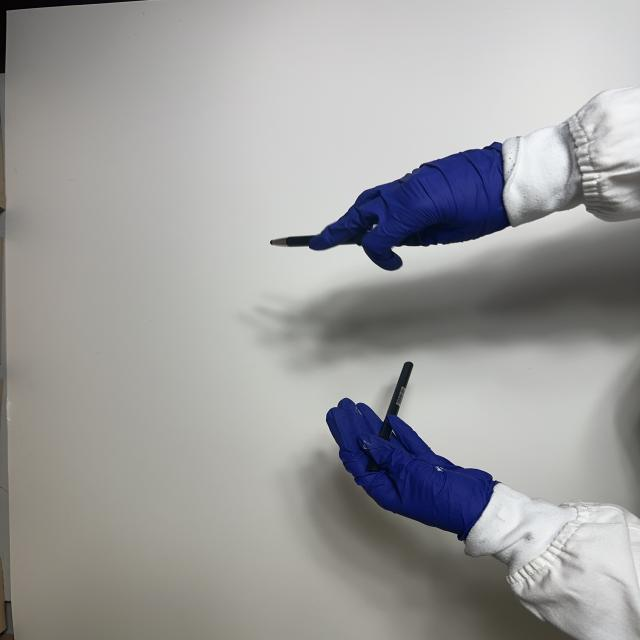gloves_contaminated: (310, 143, 510, 270), (327, 399, 498, 540)
